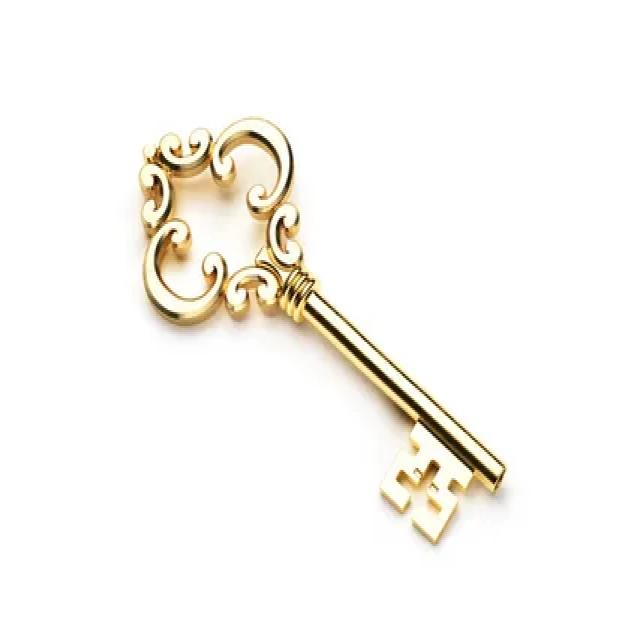key: (127, 95, 524, 564)
